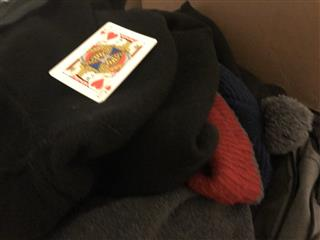JackOfHearts: (48, 21, 157, 103)
